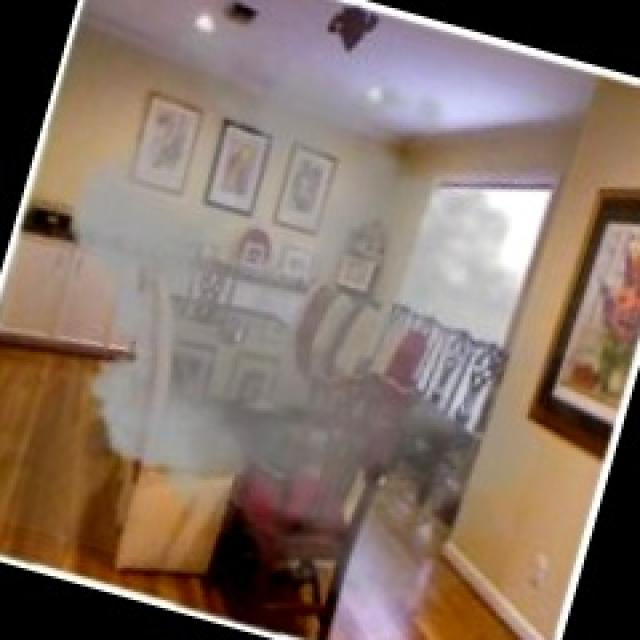smoke: (50, 132, 498, 527)
